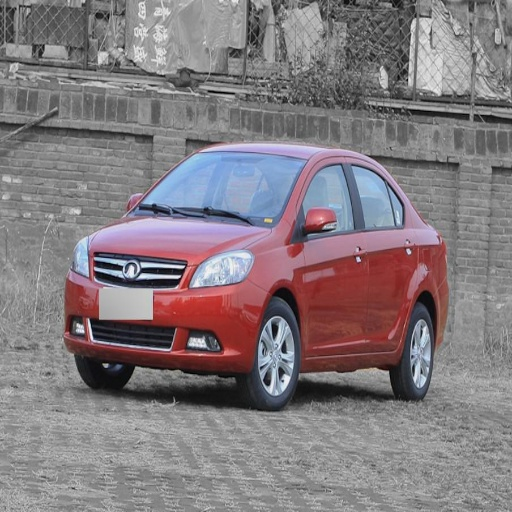front_bumper: (63, 251, 268, 372)
front_glass: (135, 152, 306, 227)
front_left_door: (299, 156, 369, 357)
